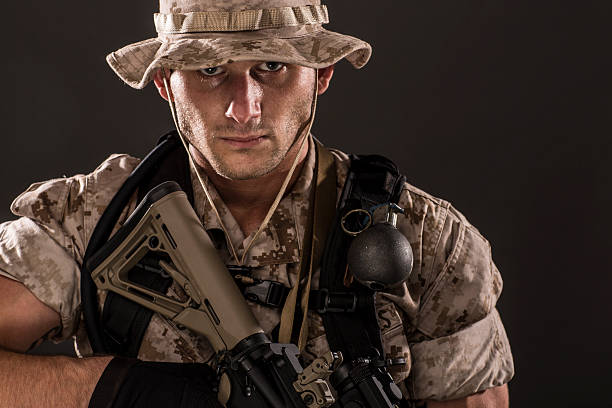e1: (340, 200, 415, 290)
